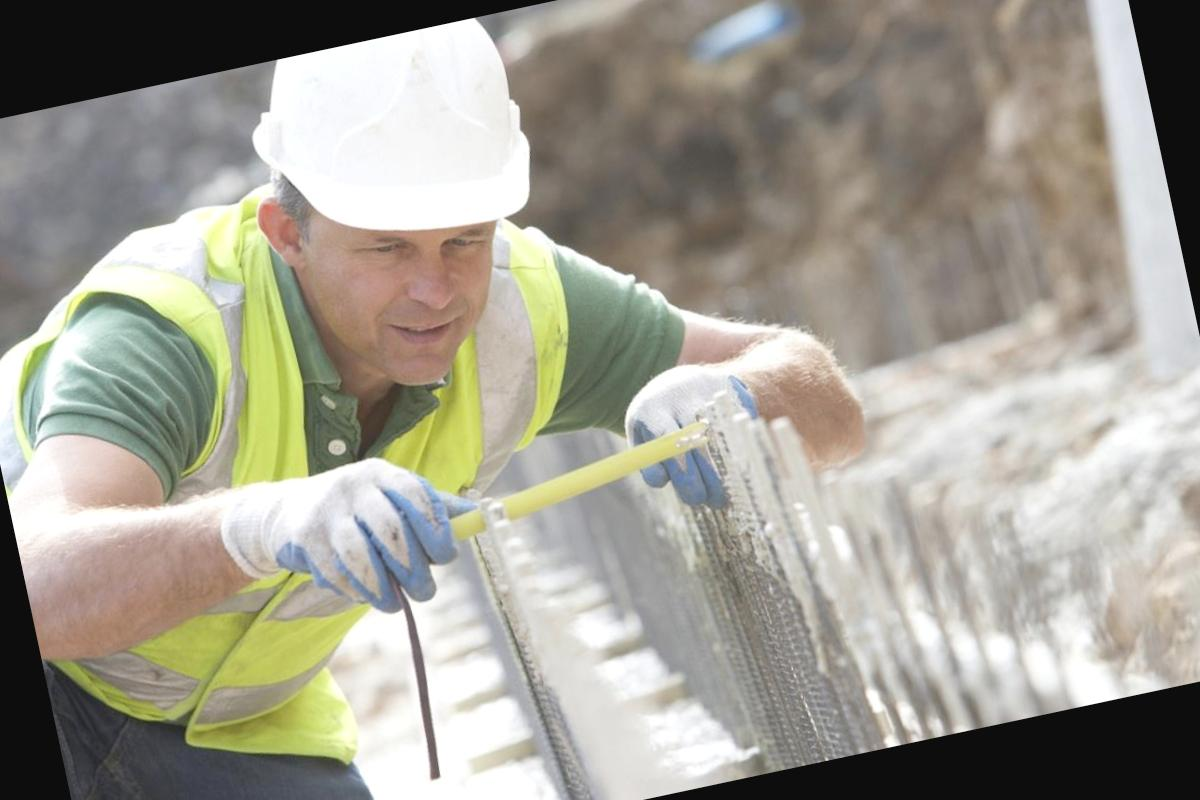helmet: (232, 12, 546, 274)
person: (0, 0, 797, 800)
